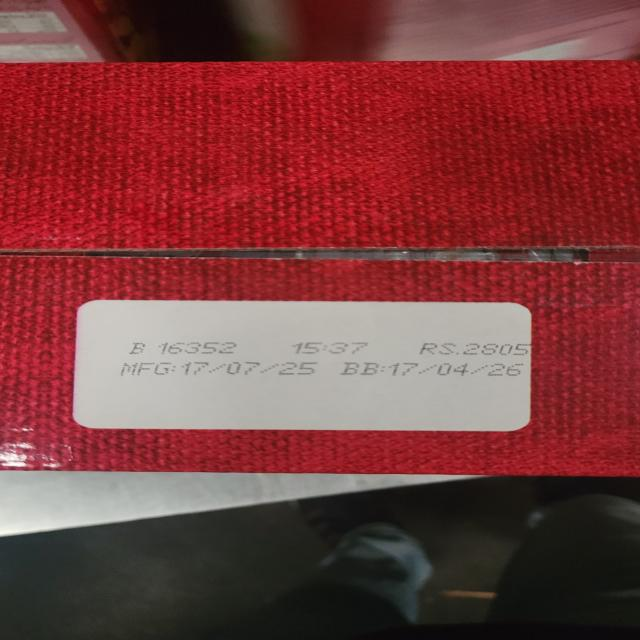BB: (342, 362, 528, 378)
Batch: (130, 342, 238, 354)
MFG: (122, 360, 318, 377)
RS: (417, 342, 532, 356)
TimeStamp: (289, 341, 370, 355)
